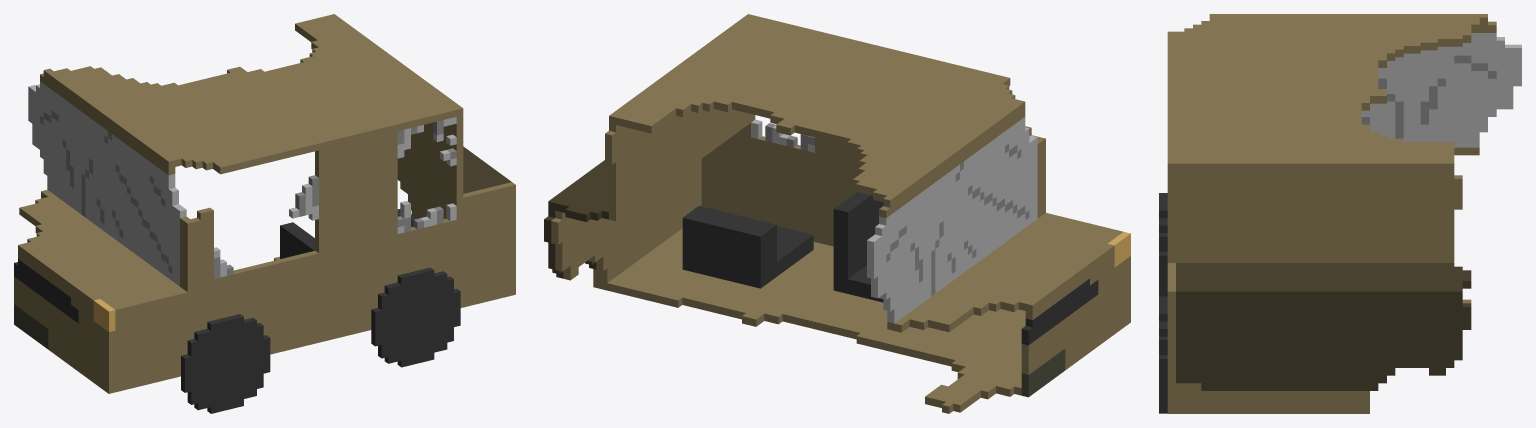
The model's file is Car2.obj.
3 renders of one model, left to right at view 1: azimuth 30°, elevation 25°; view 2: azimuth 150°, elevation 25°; view 3: azimuth 270°, elevation 25°, orthographic. The views are drawn at different scales.
Bounding box in the file's own units: 6.2 × 3.5 × 4.3.
Materials: 1 (1 with a texture image).
